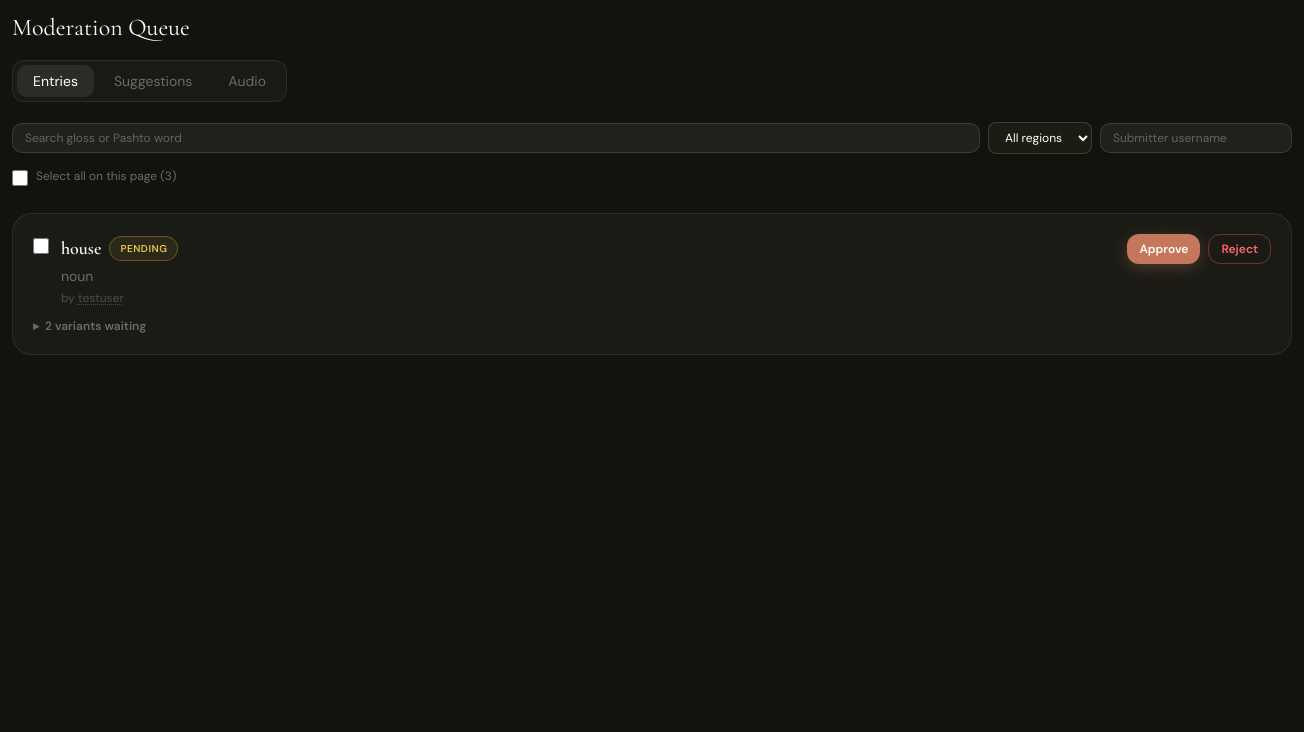
Grouped queue — concept rows with variant dropdowns › hides variants until the toggle is clicked and flips aria-expanded
The image size is (1304, 732).
Expected: the text "کور" is not shown
Click the button "▸ 2 variants waiting" at (90, 326), box [33,318,146,334]
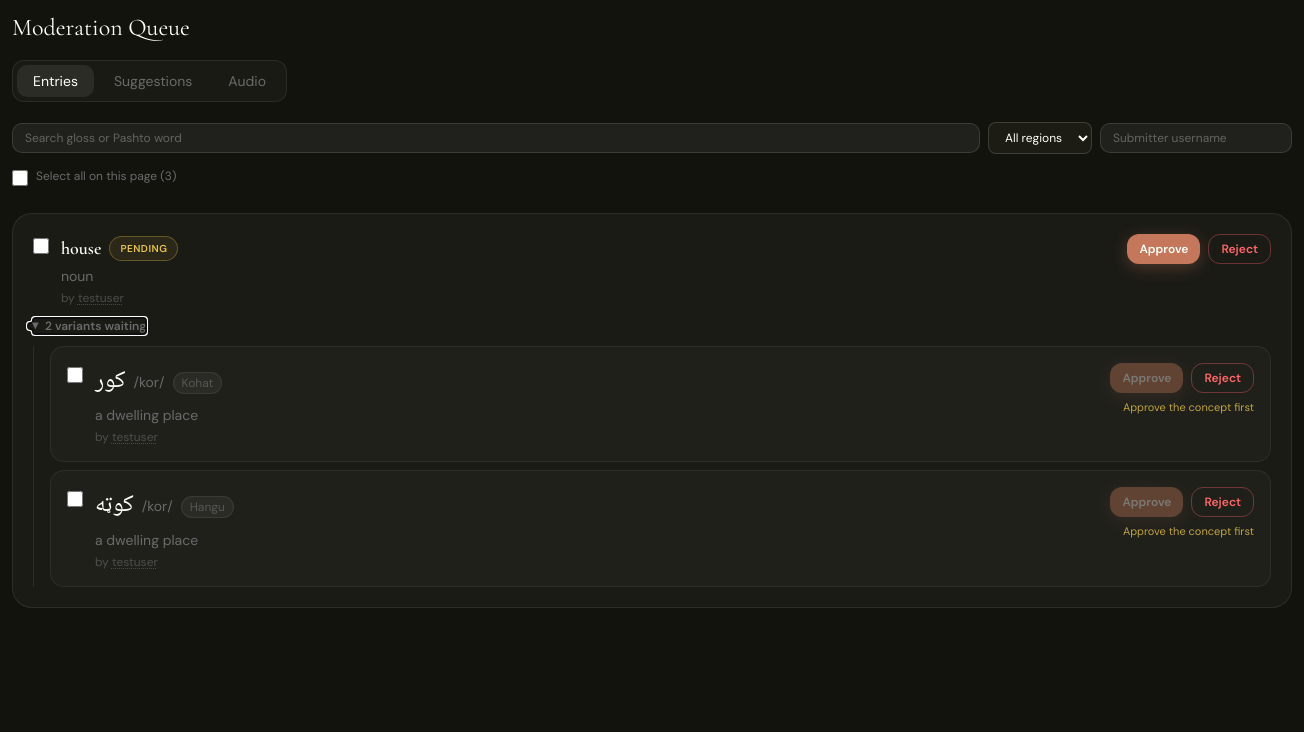
Expected: the button "▸ 2 variants waiting" is expanded, [33,318,146,334]
Expected: the text "کور" is shown, [95,363,126,401]
Expected: the text "کوټه" is shown, [95,487,134,526]
